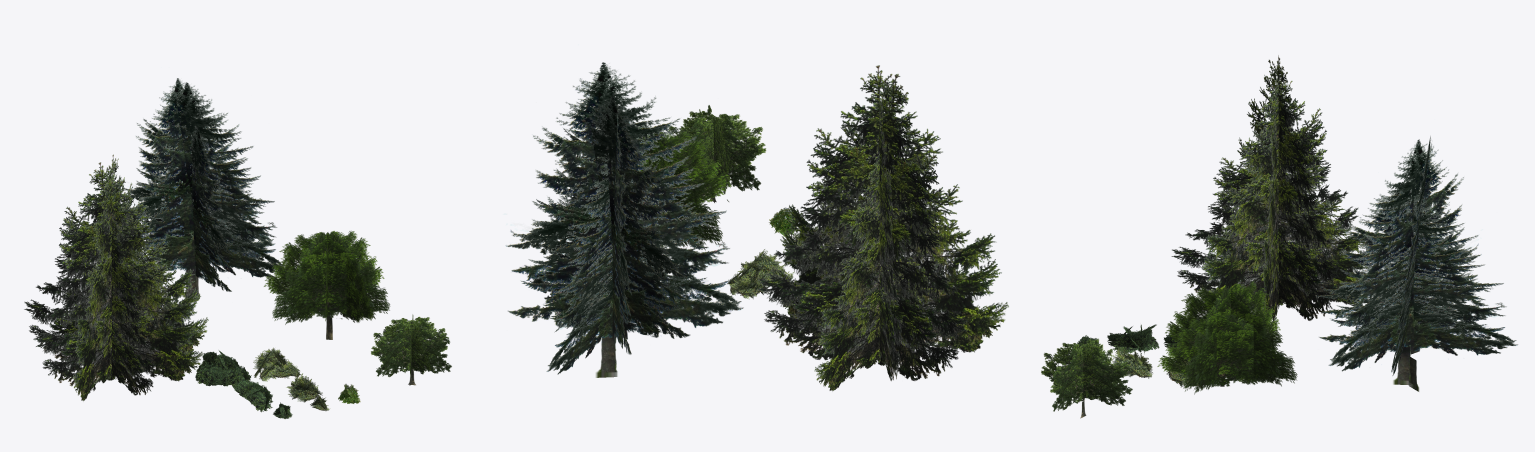
3 renders of one model, left to right at view 1: azimuth 30°, elevation 25°; view 2: azimuth 150°, elevation 25°; view 3: azimuth 270°, elevation 25°, orthographic. The views are drawn at different scales.
Visible parts, largest first — view 1: pine1, Pine2, tree2, TreeSmall, MushBig, BushBig2, BushMed, BushMed2; view 2: pine1, Pine2, tree2, TreeSmall, BushBig2, BushFlowerSmall; view 3: pine1, Pine2, tree2, TreeSmall, BushMed, BushMed2.
Boxes of the visible parts, x1,y1,x2,y2 form: pine1: [24, 154, 208, 401]; Pine2: [123, 78, 284, 302]; tree2: [264, 231, 390, 339]; TreeSmall: [371, 314, 451, 385]; MushBig: [195, 350, 251, 391]; BushBig2: [253, 347, 301, 381]; BushMed: [232, 379, 272, 412]; BushMed2: [286, 373, 322, 402]; pine1: [757, 65, 1008, 391]; Pine2: [505, 62, 743, 377]; tree2: [581, 124, 731, 250]; TreeSmall: [668, 105, 766, 202]; BushBig2: [727, 249, 794, 299]; BushFlowerSmall: [769, 207, 796, 236]; pine1: [1171, 55, 1372, 324]; Pine2: [1317, 136, 1517, 391]; tree2: [1157, 280, 1297, 394]; TreeSmall: [1041, 338, 1132, 418]; BushMed: [1107, 324, 1159, 354]; BushMed2: [1110, 346, 1152, 378].
Bounding box in the file's own units: 63.05 × 49.75 × 68.04.
Materials: 8 (8 with a texture image).
